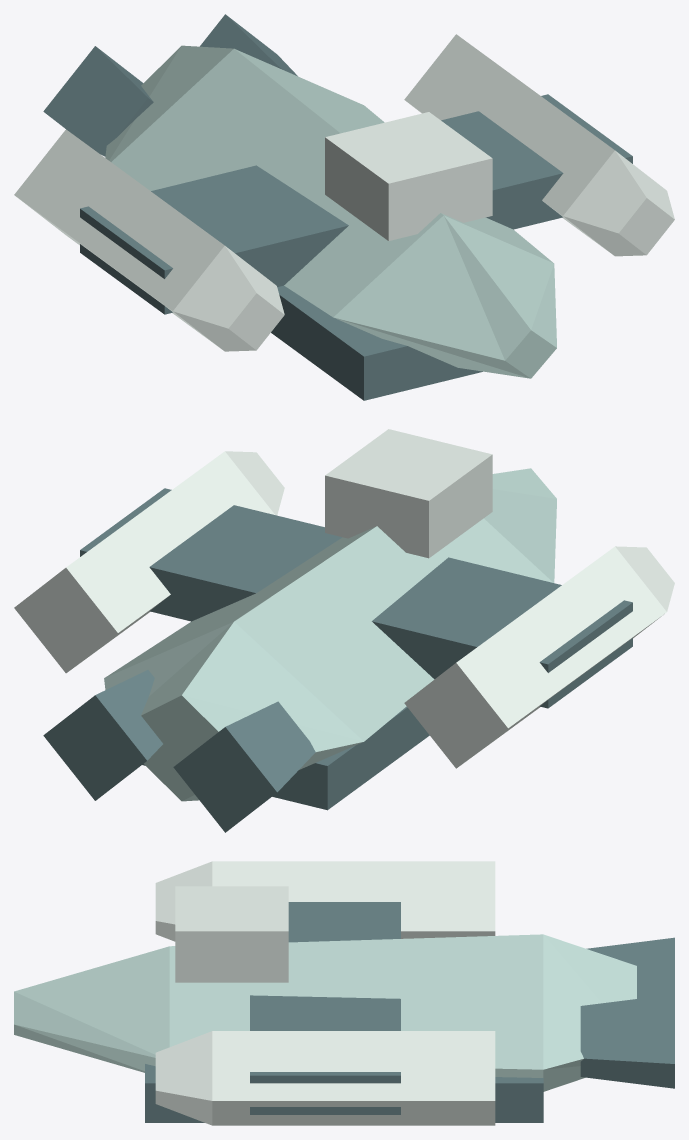
3 views of the same model, one above another, from view 1: azimuth 30°, elevation 25°; view 2: azimuth 150°, elevation 25°; view 3: azimuth 270°, elevation 25° (orthographic). The views are drawn at different scales.
Bounding box in the file's own units: 5.34 × 2.12 × 6.93.
